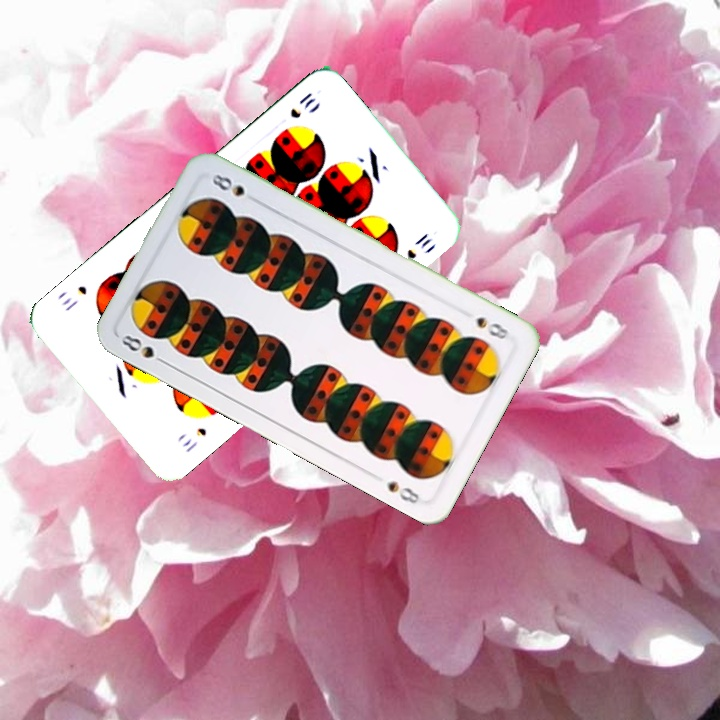S10: (286, 88, 318, 121), (178, 423, 209, 456)
S8: (117, 330, 171, 368), (472, 312, 512, 342)
